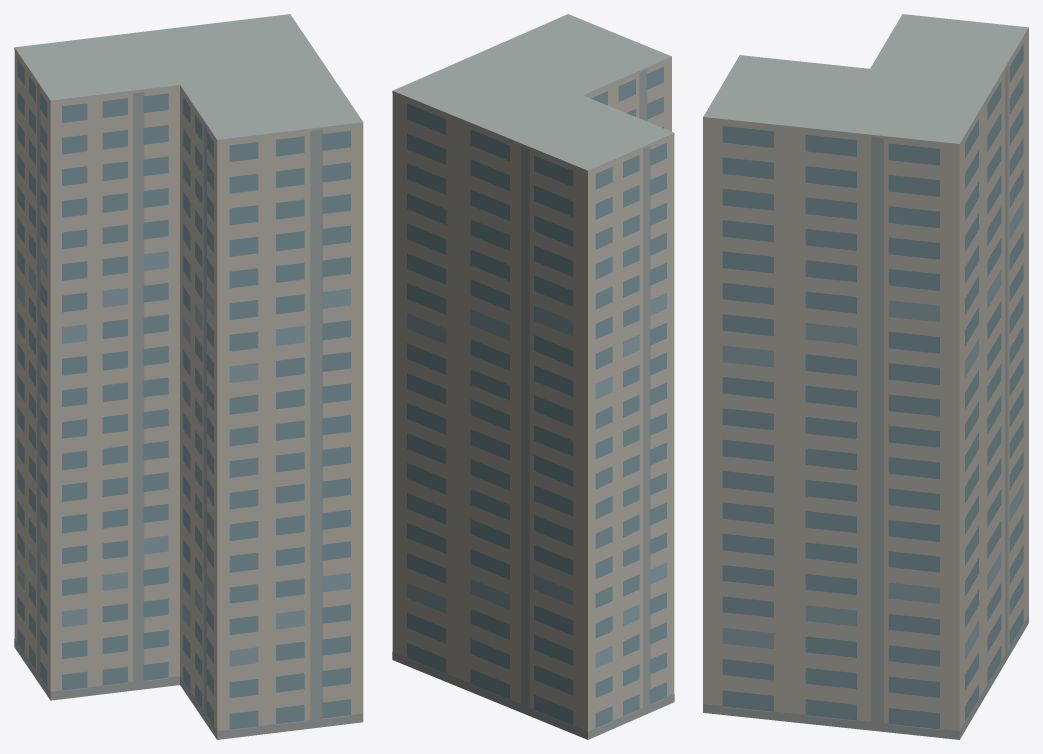
The model's file is residential-82dae62b-fece-4c89-99ea-7eb6a8651524.glb.
3 views of the same model, side by side, from view 1: azimuth 30°, elevation 25°; view 2: azimuth 150°, elevation 25°; view 3: azimuth 270°, elevation 25° (orthographic). The views are drawn at different scales.
Visible parts, largest first — view 1: residential-82dae62b-fece-4c89-99ea-7eb6a8651524.tmp; view 2: residential-82dae62b-fece-4c89-99ea-7eb6a8651524.tmp; view 3: residential-82dae62b-fece-4c89-99ea-7eb6a8651524.tmp.
Boxes of the visible parts, x1,y1,x2,y2 form: residential-82dae62b-fece-4c89-99ea-7eb6a8651524.tmp: (14,14,363,739); residential-82dae62b-fece-4c89-99ea-7eb6a8651524.tmp: (392,14,674,739); residential-82dae62b-fece-4c89-99ea-7eb6a8651524.tmp: (703,14,1028,739).
Size of the model in its own units: 28.1 by 60 by 29.73.
